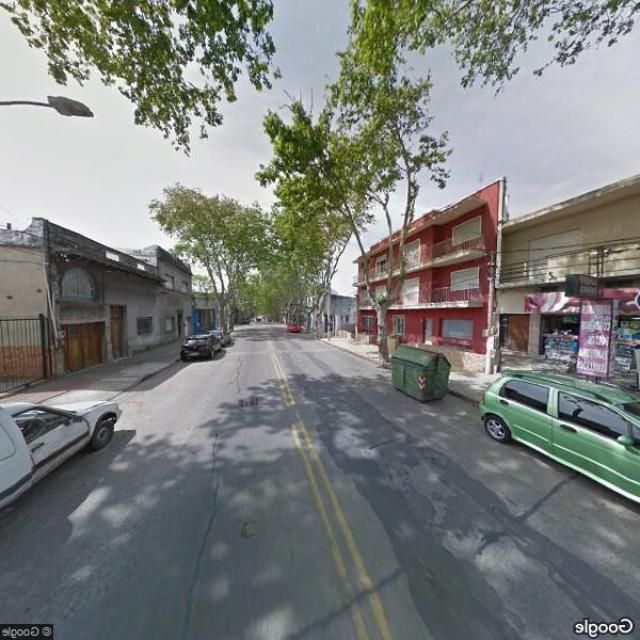garbage container: (382, 340, 454, 413)
